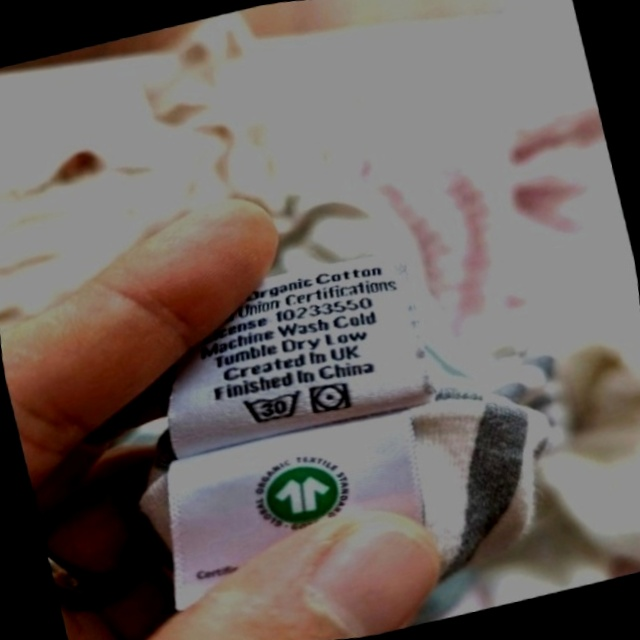30C: (233, 378, 312, 437)
tumble_dry_low: (301, 372, 359, 424)
